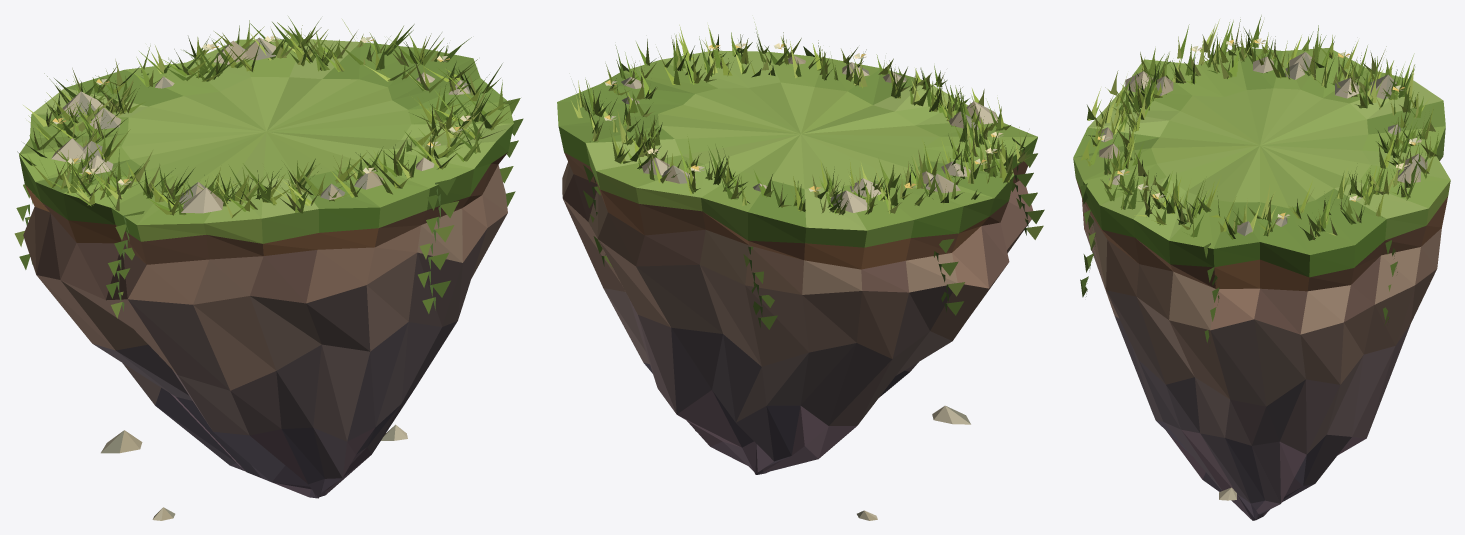
File: island-b.glb
The picture shows the model from 3 angles, left to right: view 1: azimuth 30°, elevation 25°; view 2: azimuth 150°, elevation 25°; view 3: azimuth 270°, elevation 25°; orthographic projection. The views are drawn at different scales.
Parts seen in each view (by area): view 1: stone, turf, leaves, earth, flowers; view 2: stone, turf, leaves, earth, flowers; view 3: stone, turf, leaves, earth, flowers.
Boxes of the visible parts, <box> form: stone: <box>23,37,507,520</box>; turf: <box>19,39,513,243</box>; leaves: <box>14,16,523,318</box>; earth: <box>25,152,507,264</box>; flowers: <box>52,36,473,185</box>; stone: <box>562,55,1033,520</box>; turf: <box>557,50,1037,247</box>; leaves: <box>571,22,1044,329</box>; earth: <box>564,152,1027,269</box>; flowers: <box>604,42,1003,192</box>; stone: <box>1082,52,1441,520</box>; turf: <box>1073,47,1450,277</box>; leaves: <box>1080,15,1439,346</box>; earth: <box>1076,157,1447,291</box>; flowers: <box>1097,38,1421,219</box>.
Bounding box in the file's own units: 4.09 × 3.43 × 3.06.
